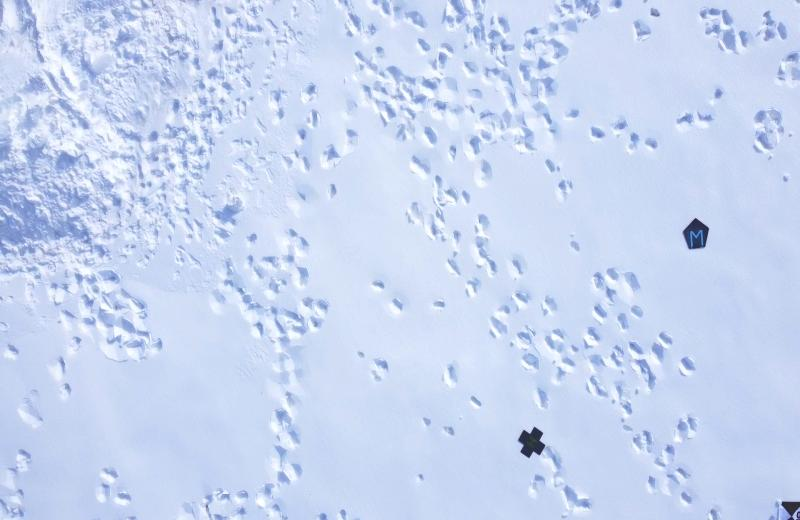Cross: (515, 422, 546, 461)
Pentagon: (678, 215, 714, 254)
